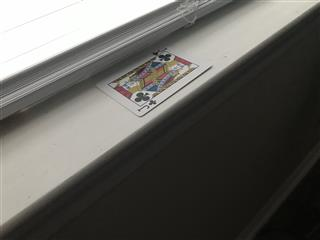JackOfClubs: (95, 44, 212, 116)
